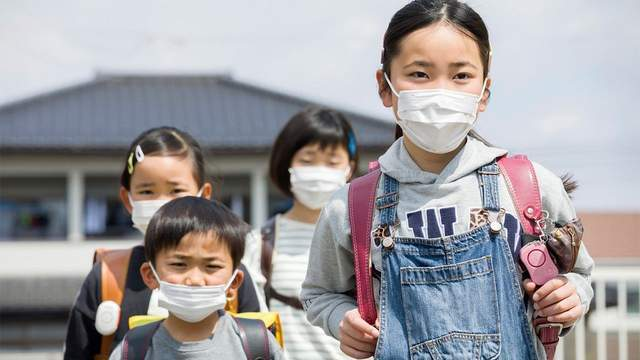mask: (383, 18, 488, 153), (147, 218, 250, 326), (128, 153, 196, 236), (285, 134, 351, 210)
